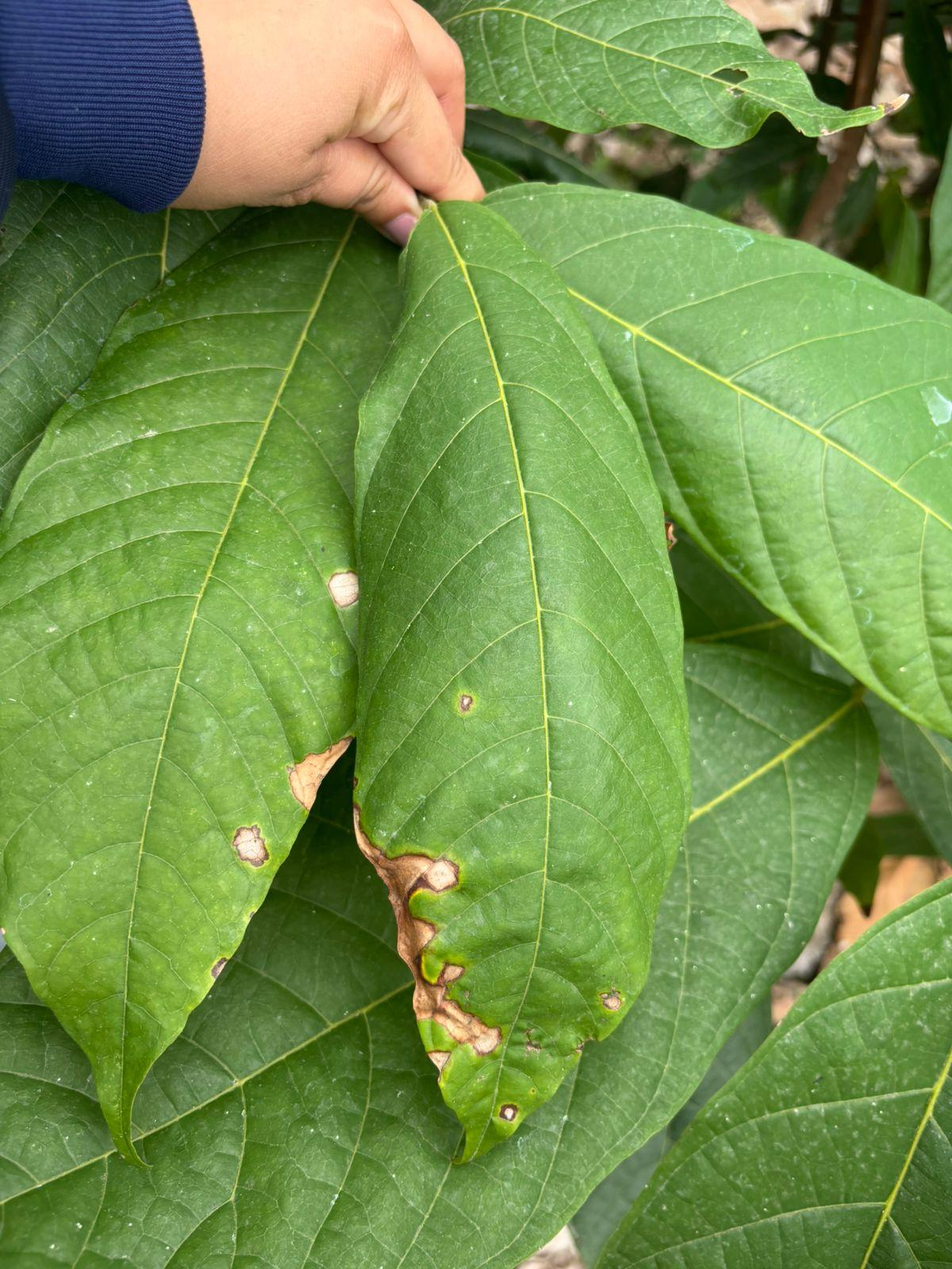deficiencia_potasio: (353, 200, 689, 1159)
